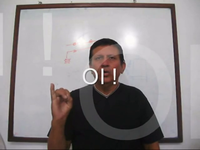oi: (46, 81, 75, 123)
